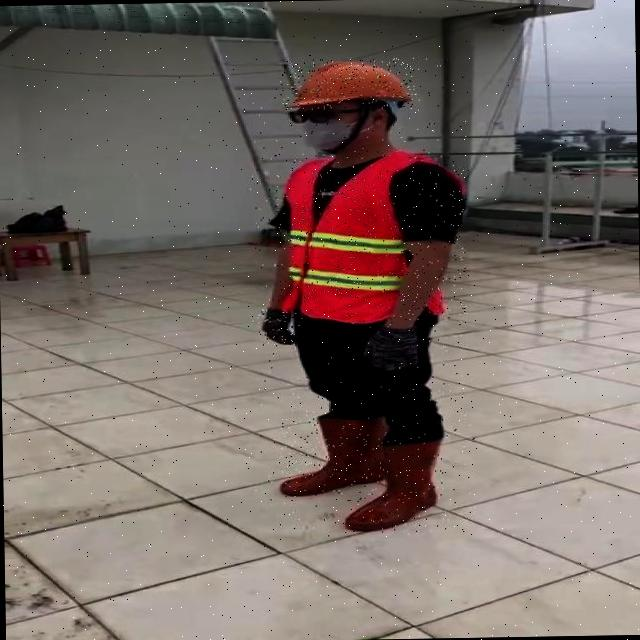boots: (347, 438, 447, 534), (280, 417, 387, 497)
helmet: (280, 58, 416, 110)
vest: (274, 152, 466, 322)
